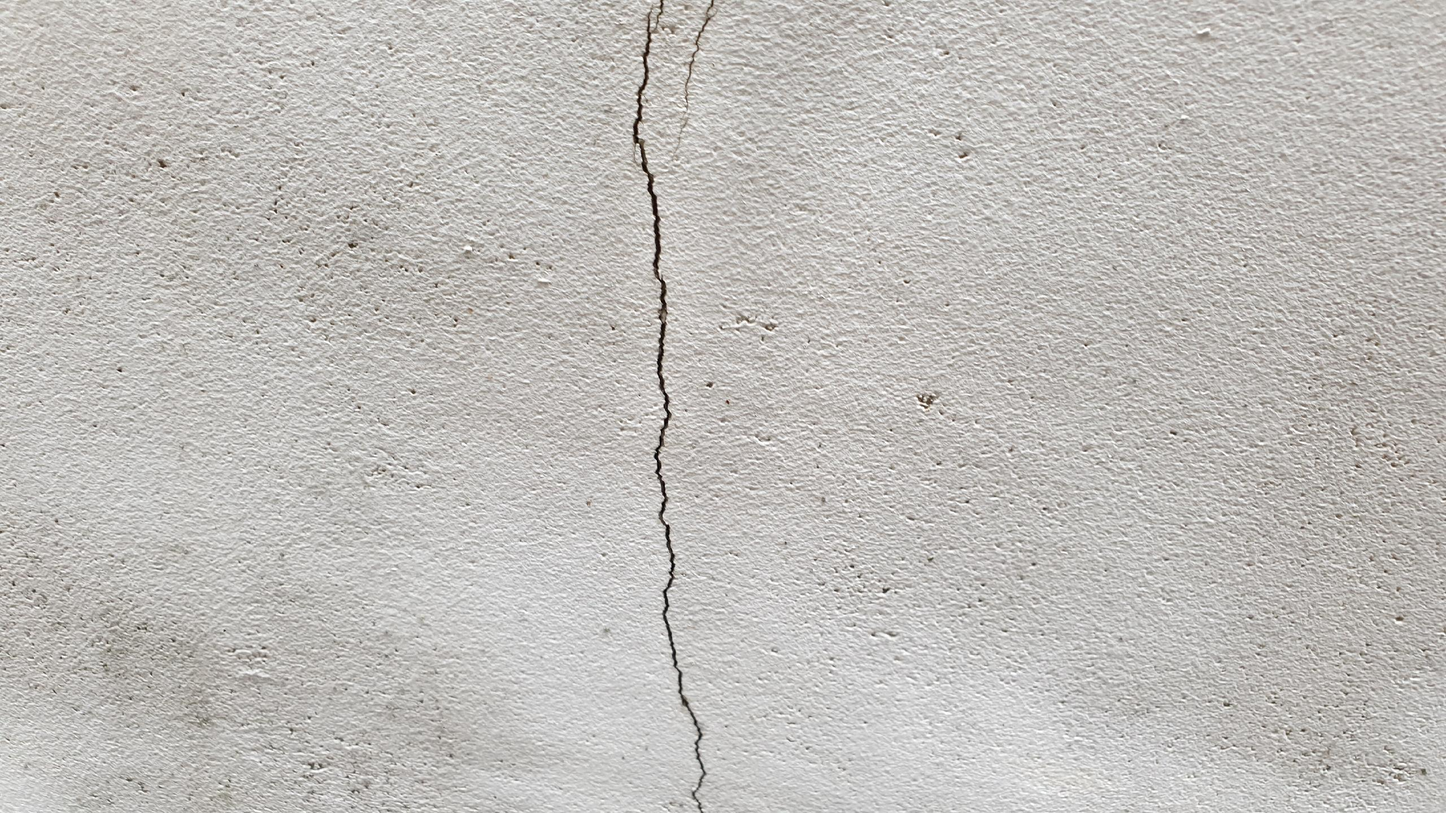crack: (630, 1, 708, 812), (673, 1, 716, 156)
